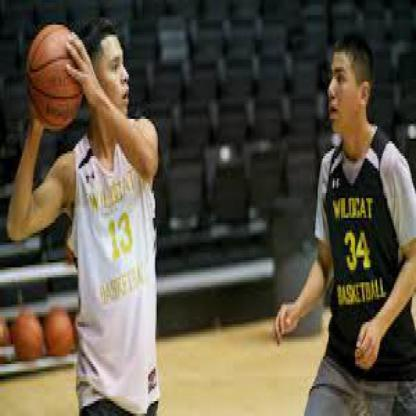basketball: (24, 22, 84, 131)
